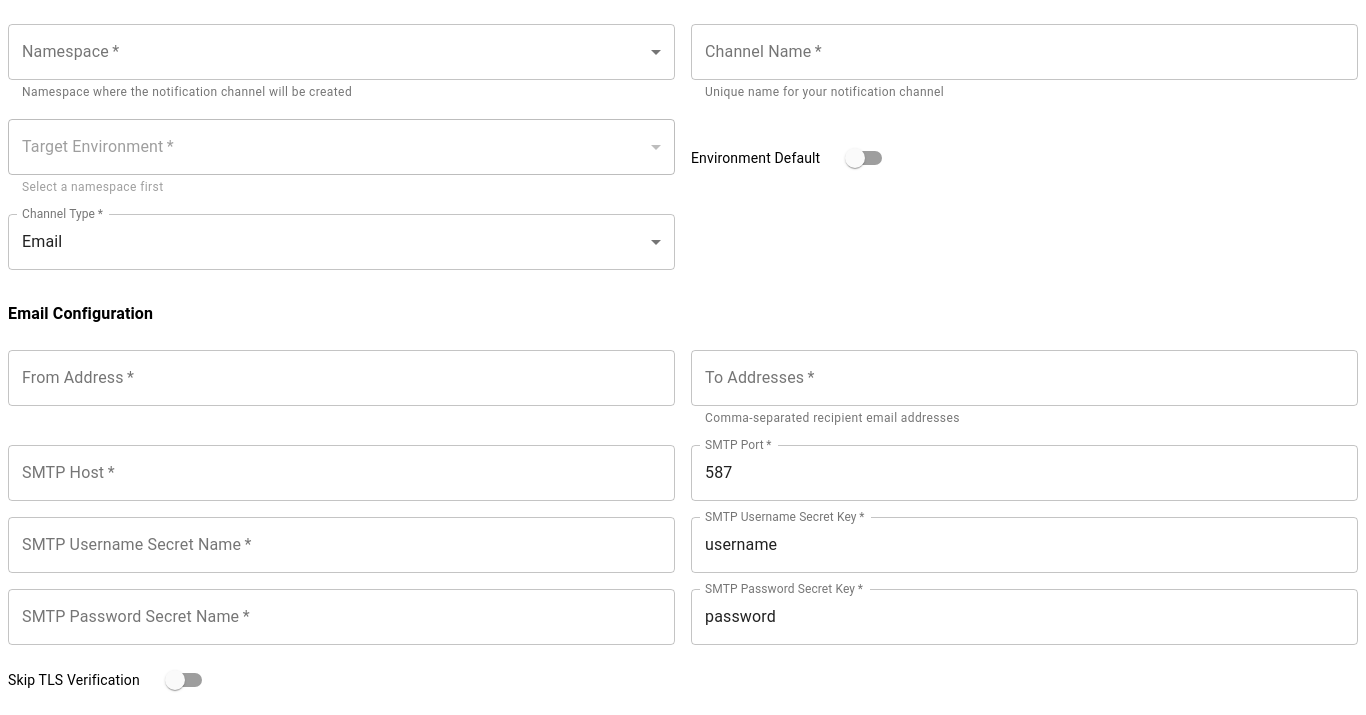
NotificationChannelFormWithYamlExtension — type switching › switches from email to webhook, showing webhook fields and stripping emailConfig from the commit
Check: the text "Email Configuration" is shown, box left=8, top=304, right=153, bottom=323
Press the mouse on the button "Email" at (42, 242), box left=22, top=232, right=62, bottom=251
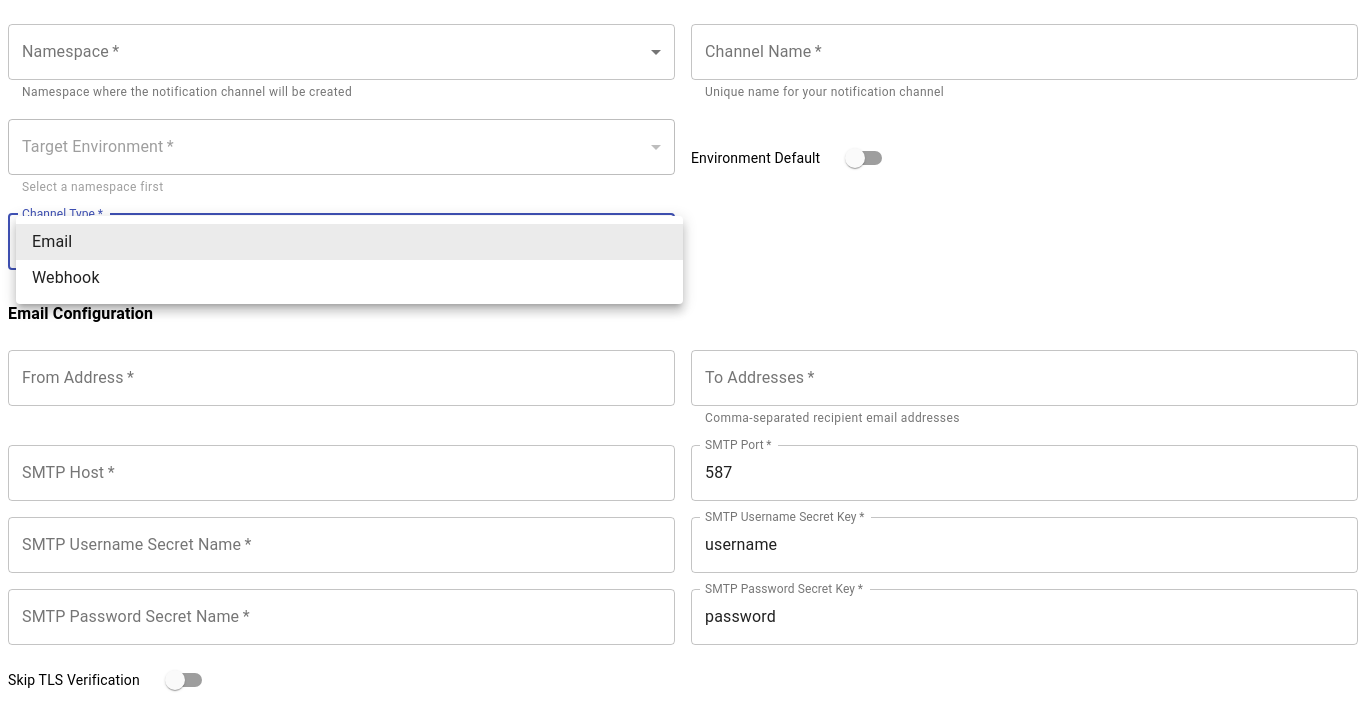
Click the option "Webhook".
click(66, 278)  # box left=32, top=268, right=100, bottom=287
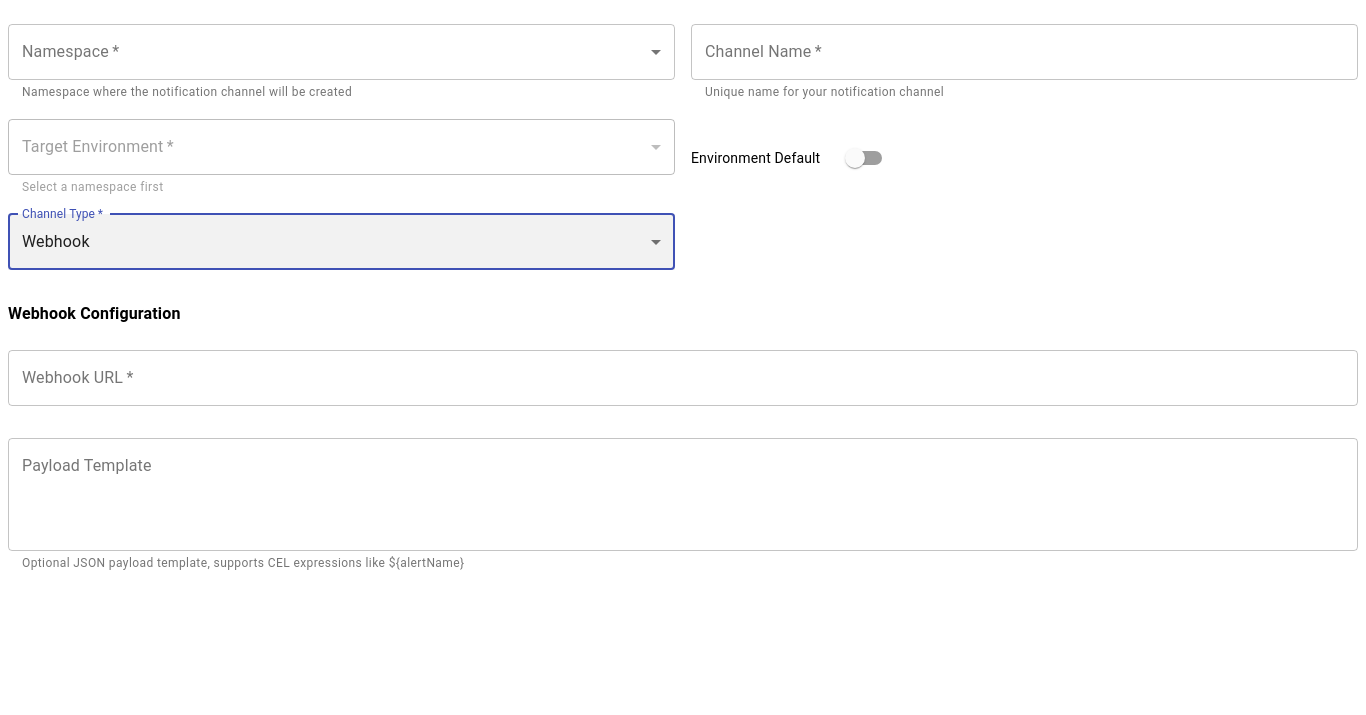
Check: the text "Webhook Configuration" is shown, box left=8, top=304, right=181, bottom=323
Check: the text "Email Configuration" is gone
